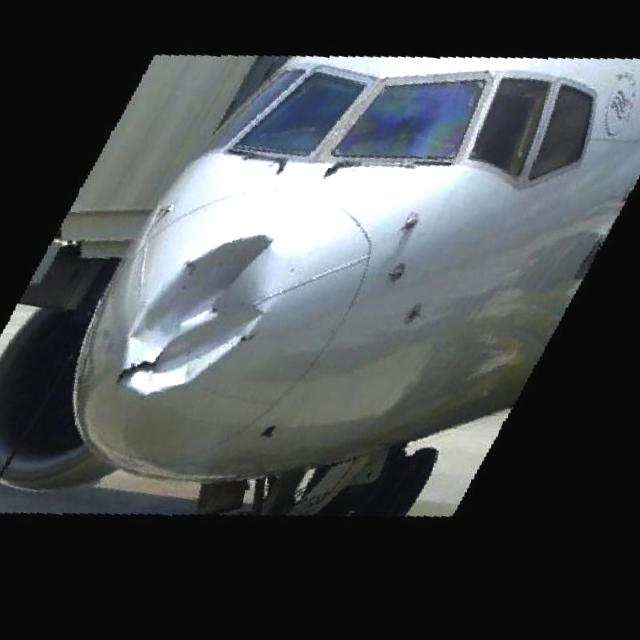dent: (108, 204, 304, 426)
